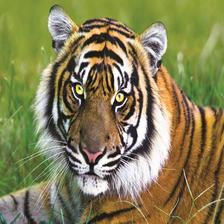tiger: (36, 11, 223, 224)
